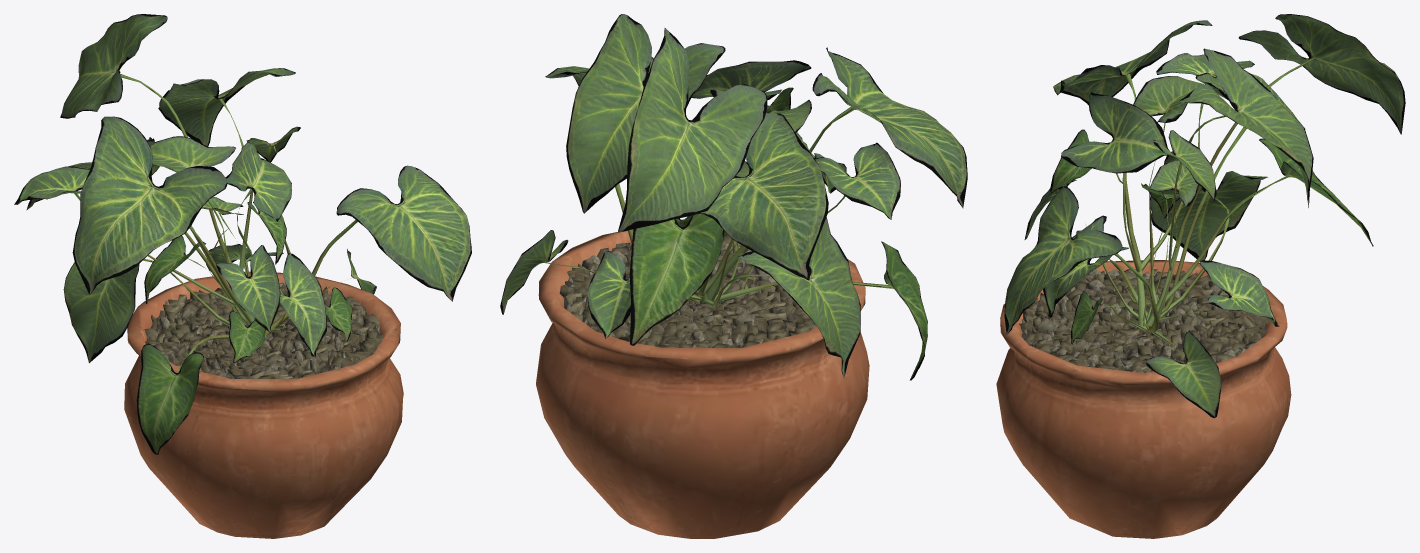
File: potted_plant_02.glb
The picture shows the model from 3 angles, left to right: view 1: azimuth 30°, elevation 25°; view 2: azimuth 150°, elevation 25°; view 3: azimuth 270°, elevation 25°; orthographic projection. The views are drawn at different scales.
Visible parts, largest first — view 1: potted_plant_02_leaves, potted_plant_02_pot; view 2: potted_plant_02_leaves, potted_plant_02_pot; view 3: potted_plant_02_pot, potted_plant_02_leaves.
Part boxes in pixels (<box>): potted_plant_02_leaves: <box>14,14,471,454</box>; potted_plant_02_pot: <box>124,271,403,538</box>; potted_plant_02_leaves: <box>500,14,967,380</box>; potted_plant_02_pot: <box>536,219,869,538</box>; potted_plant_02_pot: <box>996,260,1291,538</box>; potted_plant_02_leaves: <box>1004,14,1405,418</box>.
Size of the model in its own units: 0.7009 by 0.8406 by 0.6561.
2 materials, 2 textured.
